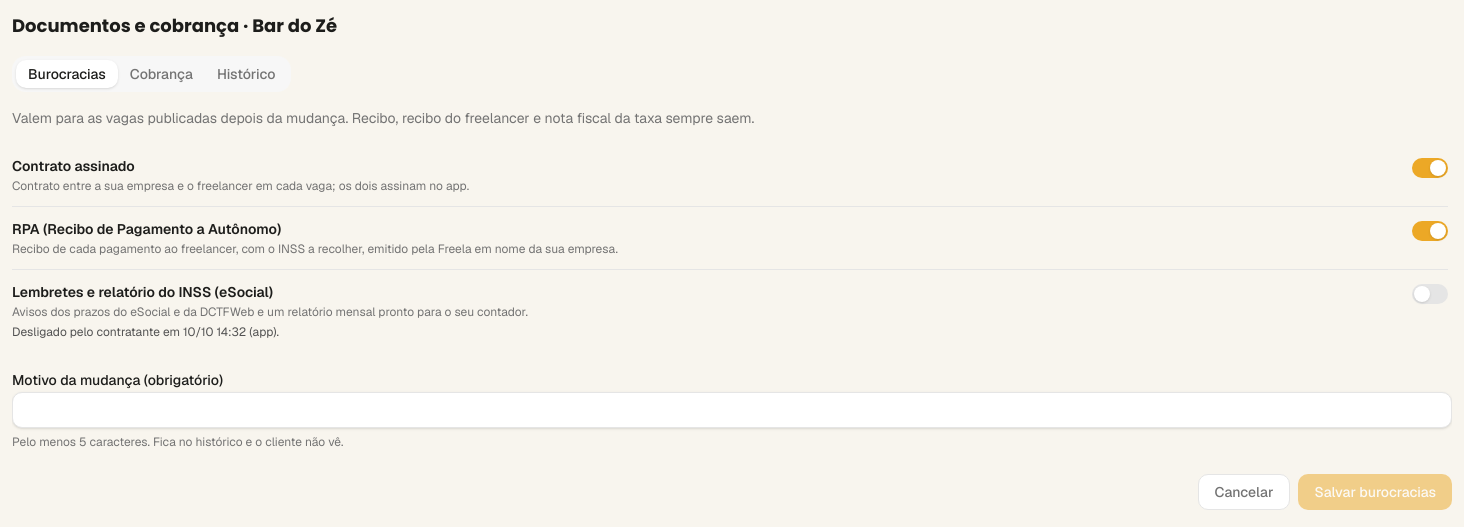
Test case: PreferencesDialog — aba Burocracias › salvar manda só o que mudou, com o motivo, e avisa o resumo
The width and height of the screenshot is (1464, 527).
Click the switch named "Contrato assinado" in the row of "Contrato assinado": [1430, 168] box [1412,158,1448,178]
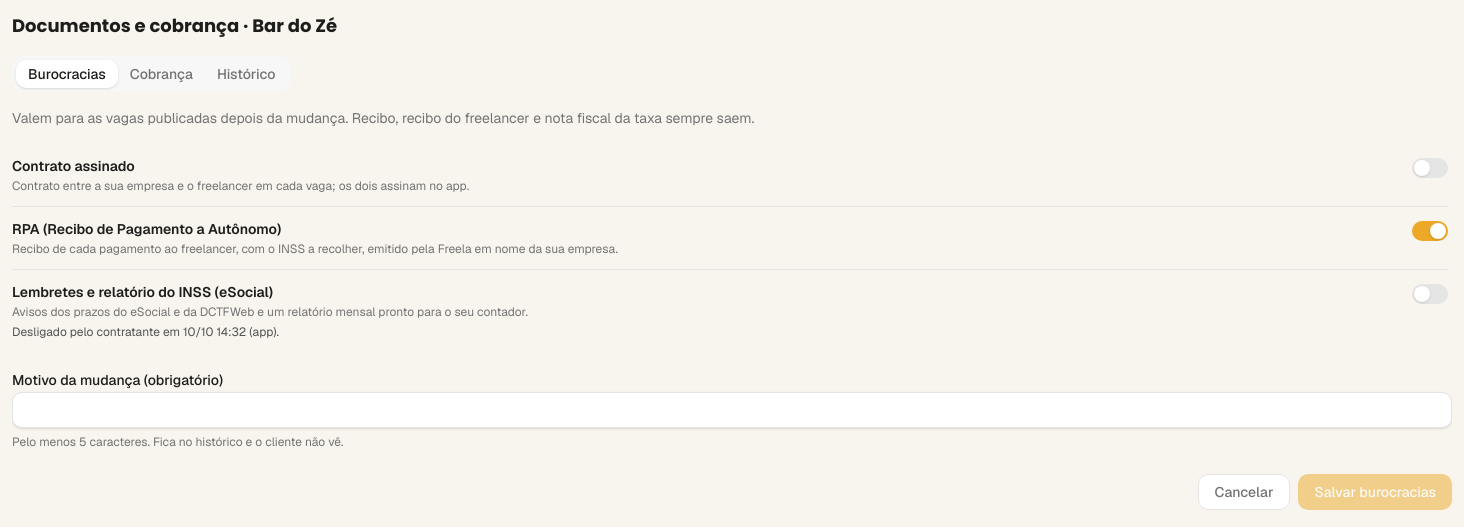
In the field labelled "Motivo da mudança (obrigatório)": [732, 410] box [12,392,1452,428], type "  Cliente pediu por e-mail  "
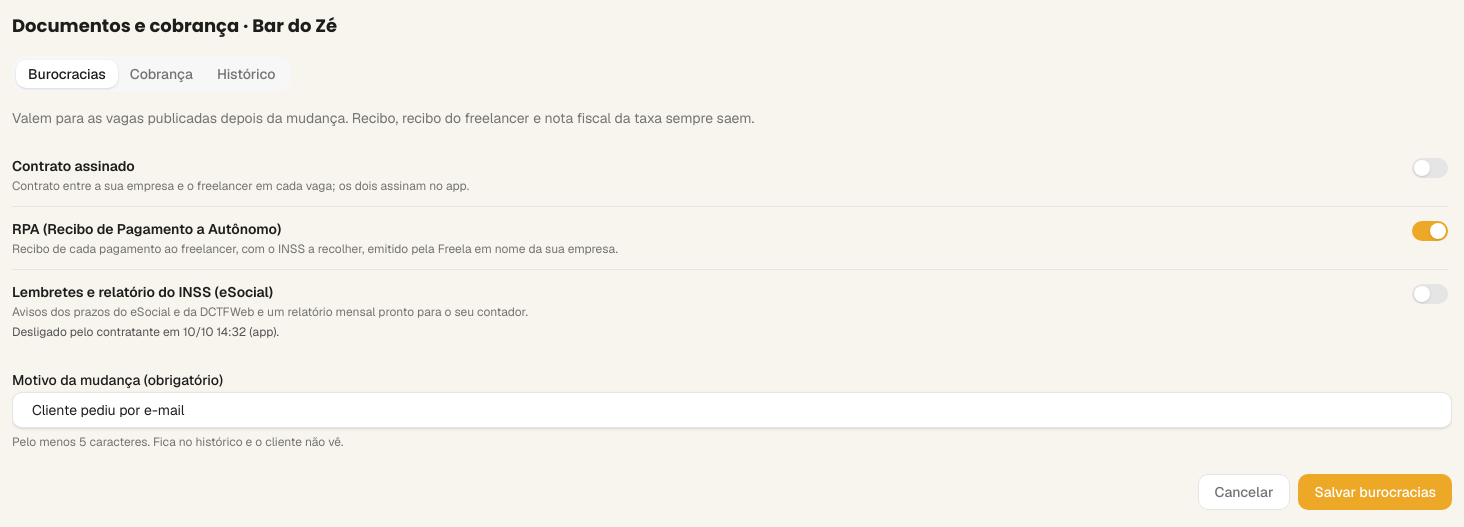
Click the button "Salvar burocracias": [1375, 492] box [1298,474,1452,510]
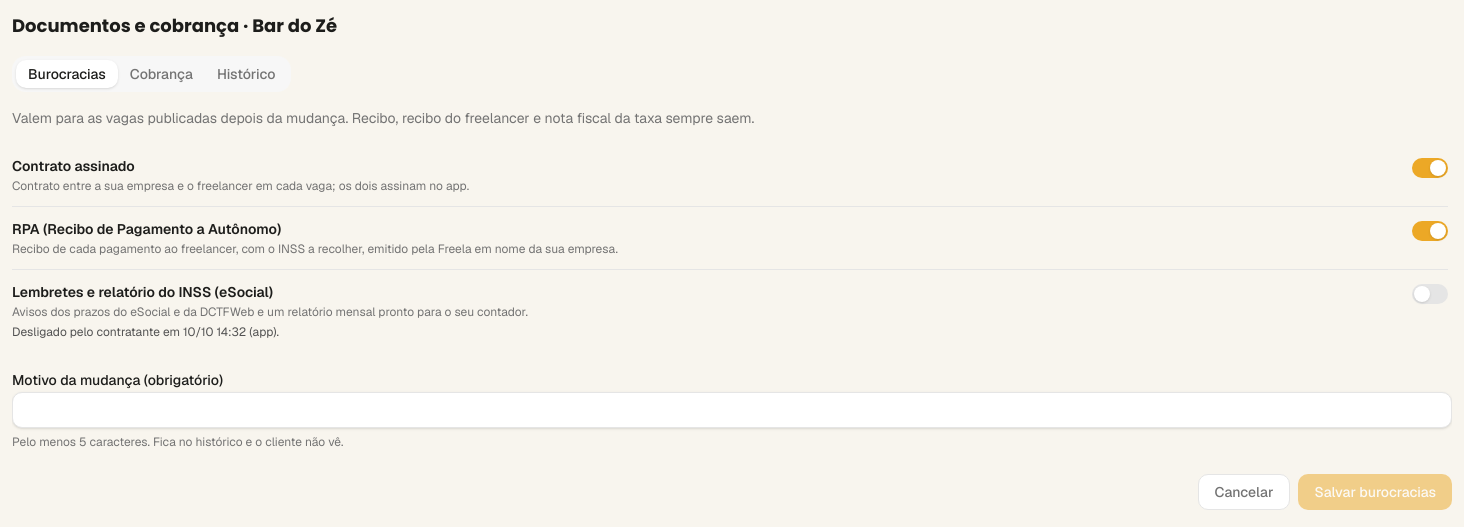
Expected: the field labelled "Motivo da mudança (obrigatório)" is empty, [12,392,1452,428]
Expected: the button "Salvar burocracias" is disabled, [1298,474,1452,510]
